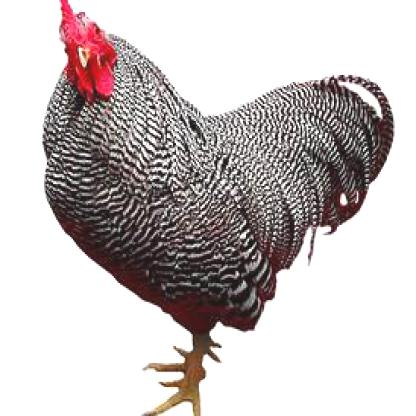chicken: (40, 0, 395, 415)
